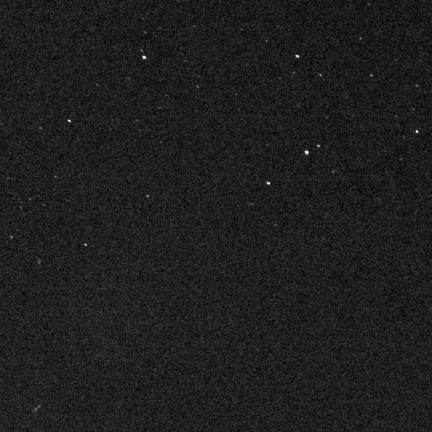blob: (305, 151, 308, 154)
